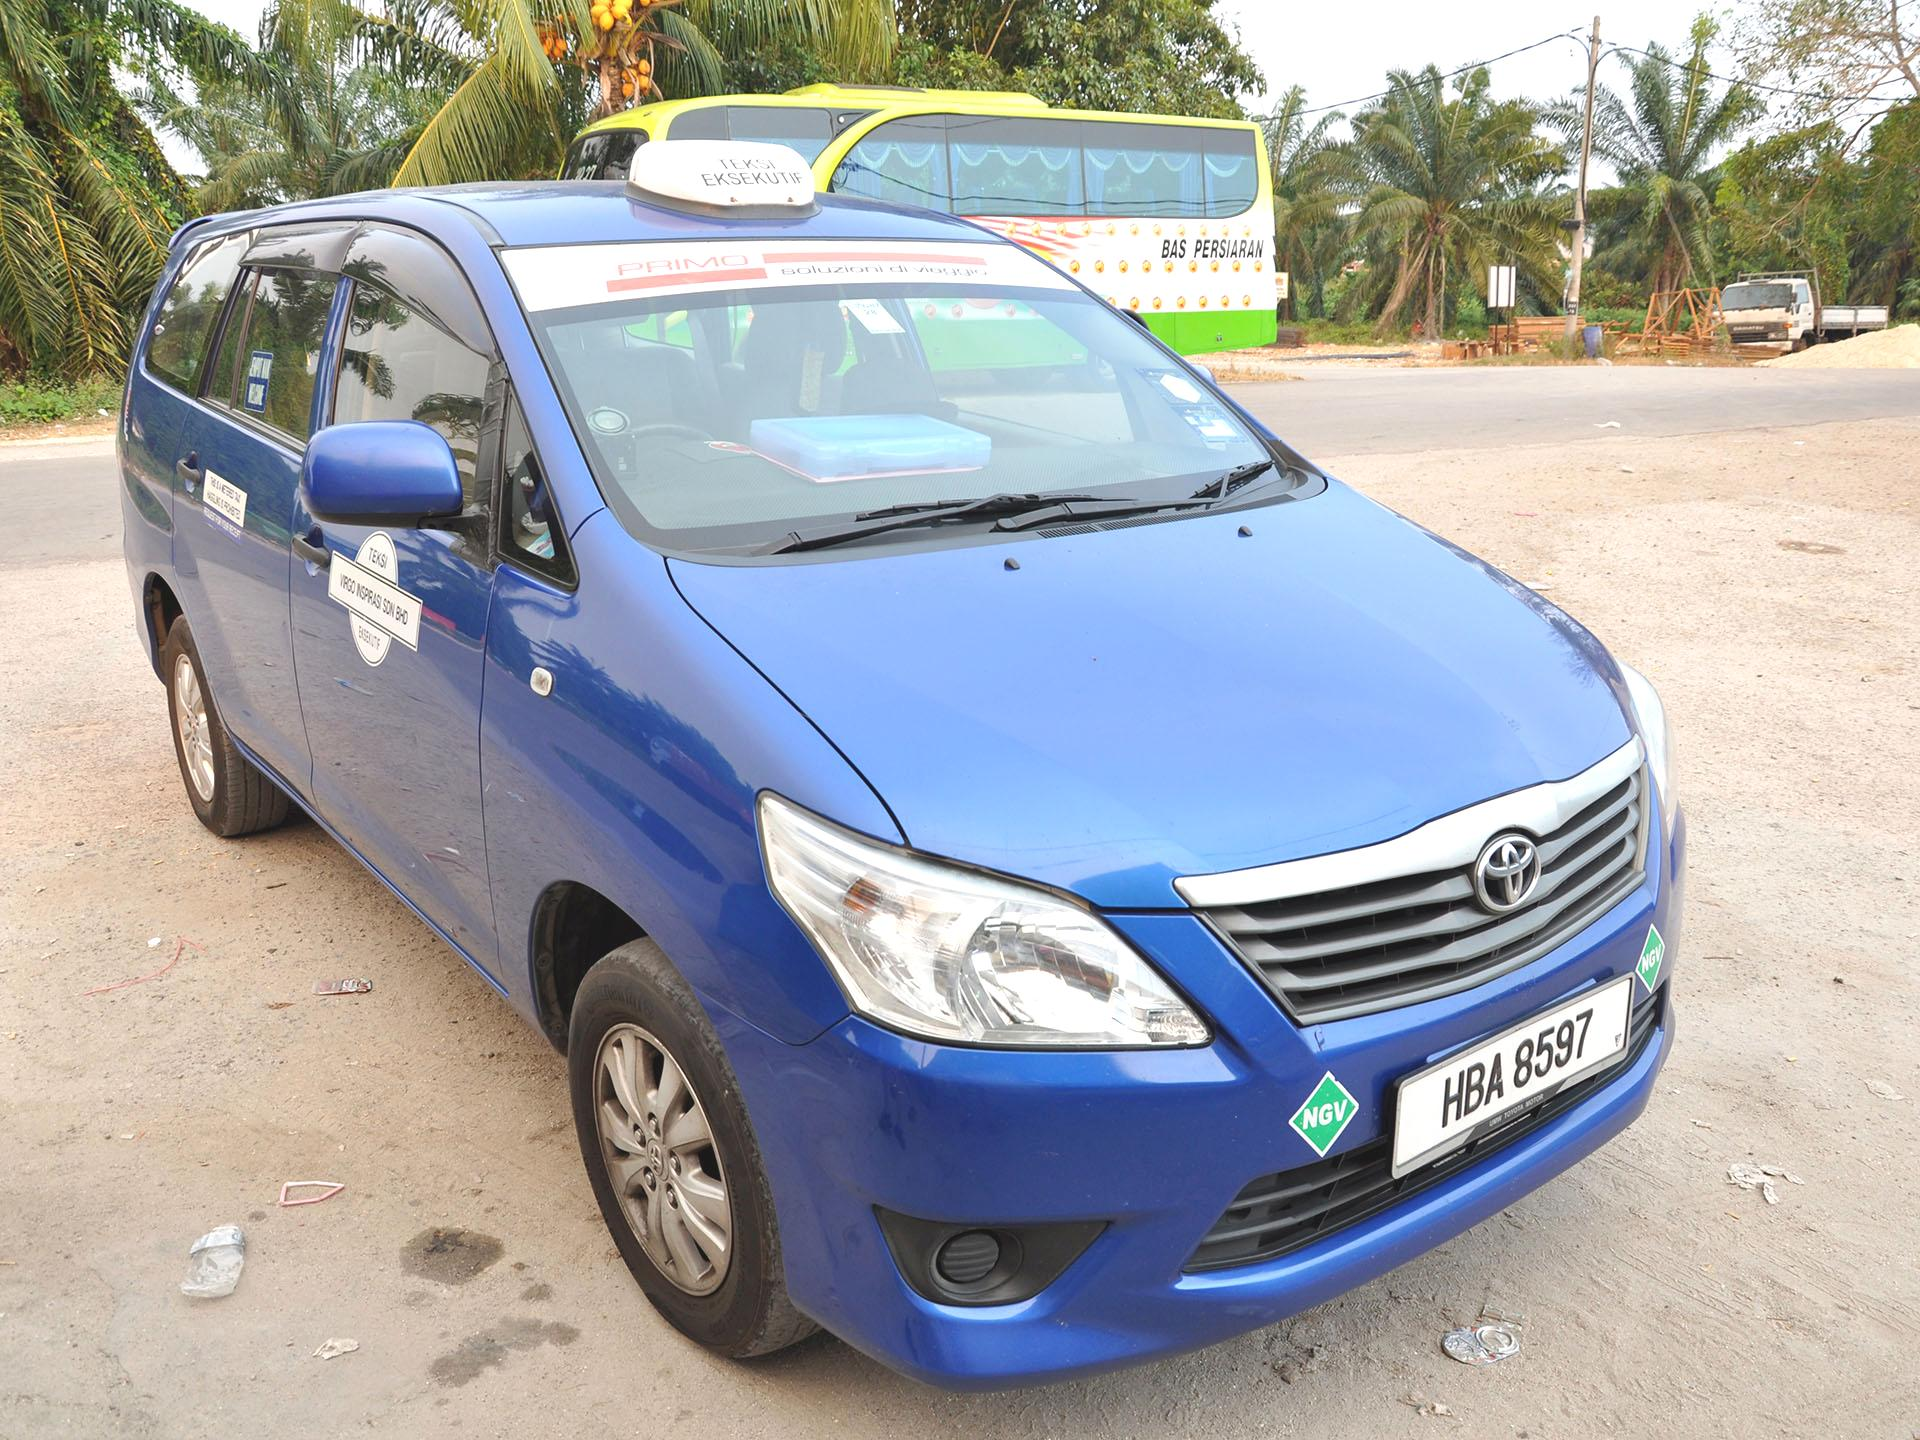License Plate: (1401, 978, 1631, 1175)
